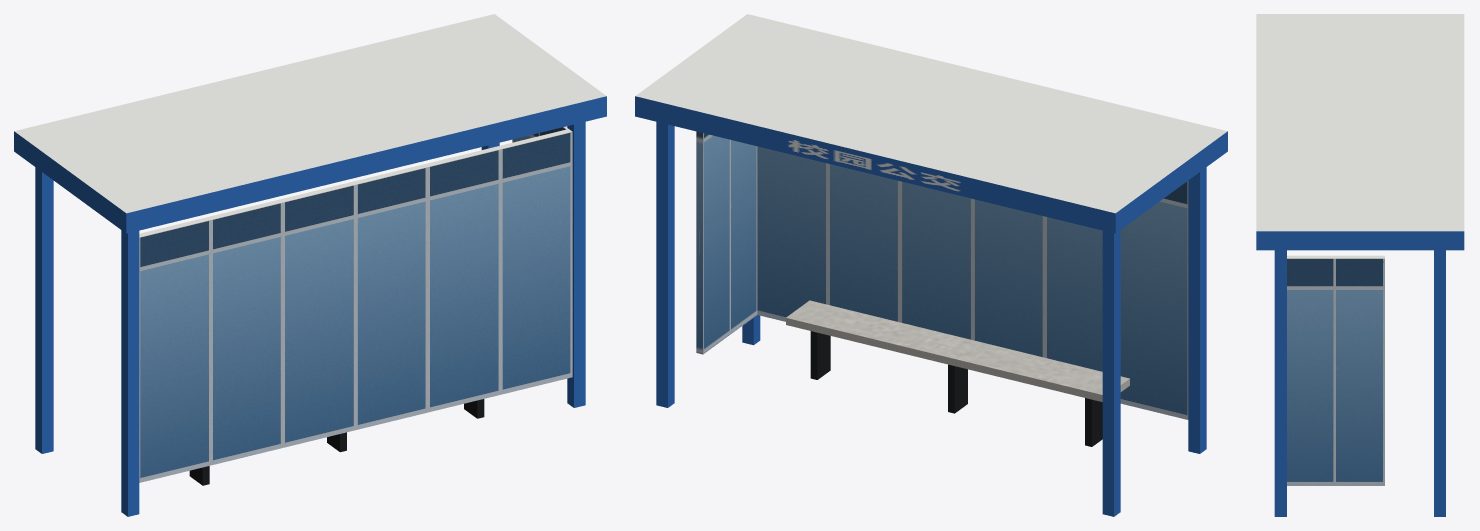
The model's file is bus_shelter.glb.
3 renders of one model, left to right at view 1: azimuth 30°, elevation 25°; view 2: azimuth 150°, elevation 25°; view 3: azimuth 270°, elevation 25°, orthographic. The views are drawn at different scales.
Visible parts, largest first — view 1: 公交候车亭; view 2: 公交候车亭; view 3: 公交候车亭.
Part boxes in pixels (x1=…): 公交候车亭: x1=14, y1=14, x2=606, y2=516; 公交候车亭: x1=635, y1=14, x2=1227, y2=516; 公交候车亭: x1=1256, y1=14, x2=1464, y2=516.
Bounding box in the file's own units: 4.2 × 2.62 × 1.71.
Materials: 6 (3 with a texture image).
